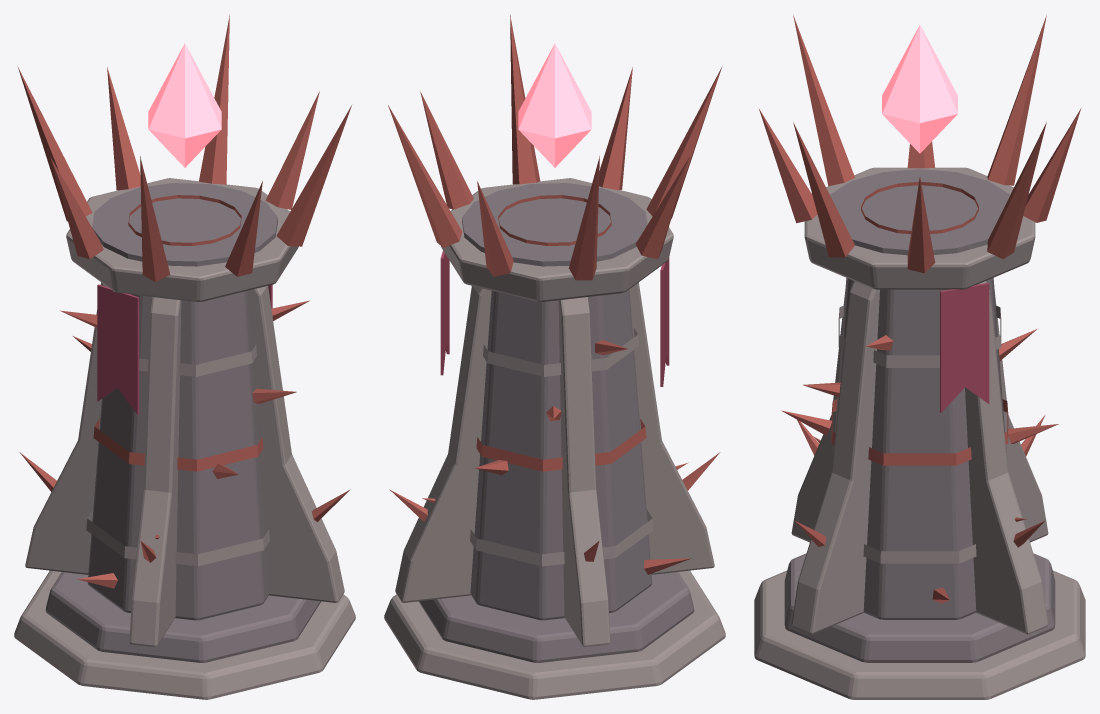
The model's file is tower_dusk.glb.
3 renders of one model, left to right at view 1: azimuth 30°, elevation 25°; view 2: azimuth 150°, elevation 25°; view 3: azimuth 270°, elevation 25°, orthographic. The views are drawn at different scales.
Visible parts, largest first — view 1: shaft, plinth, fin3, fin2, plinth2, floor, crown, fin1, crystal, banner1, crownspike7, crownspike1 (+10 smaller); view 2: shaft, plinth, fin0, fin1, plinth2, floor, fin2, crown, crystal, crownspike1, crownspike7, crownspike3 (+11 smaller); view 3: shaft, plinth, fin3, fin0, floor, plinth2, crown, crystal, banner0, crownspike3, crownspike5, fin2 (+11 smaller).
Boxes of the visible parts, box(x1,y1,x2,y2) form: shaft: box(87, 290, 269, 620); plinth: box(14, 570, 355, 699); fin3: box(248, 286, 344, 602); fin2: box(129, 297, 181, 647); plinth2: box(45, 572, 321, 662); floor: box(92, 183, 277, 266); crown: box(66, 178, 298, 301); fin1: box(25, 282, 106, 574); crystal: box(148, 43, 221, 167); banner1: box(97, 284, 139, 414); crownspike7: box(276, 105, 351, 246); crownspike1: box(199, 14, 229, 184); shaft: box(470, 289, 652, 620); plinth: box(384, 570, 725, 699); fin0: box(395, 286, 491, 602); fin1: box(558, 297, 610, 647); plinth2: box(418, 572, 694, 662); floor: box(462, 183, 647, 266); fin2: box(629, 282, 714, 574); crown: box(441, 178, 673, 301); crystal: box(518, 43, 591, 167); crownspike1: box(388, 105, 462, 247); crownspike7: box(510, 14, 540, 184); crownspike3: box(569, 156, 599, 280); shaft: box(833, 278, 1006, 619); plinth: box(754, 570, 1085, 699); fin3: box(791, 281, 879, 634); fin0: box(965, 281, 1048, 634); floor: box(830, 169, 1009, 255); plinth2: box(784, 553, 1055, 662); crown: box(804, 167, 1035, 289); crystal: box(882, 25, 957, 153); banner0: box(940, 283, 989, 412); crownspike3: box(987, 15, 1046, 185); crownspike5: box(793, 15, 854, 186); fin2: box(791, 292, 845, 542).
Bounding box in the file's own units: 3.48 × 7.03 × 3.48.
